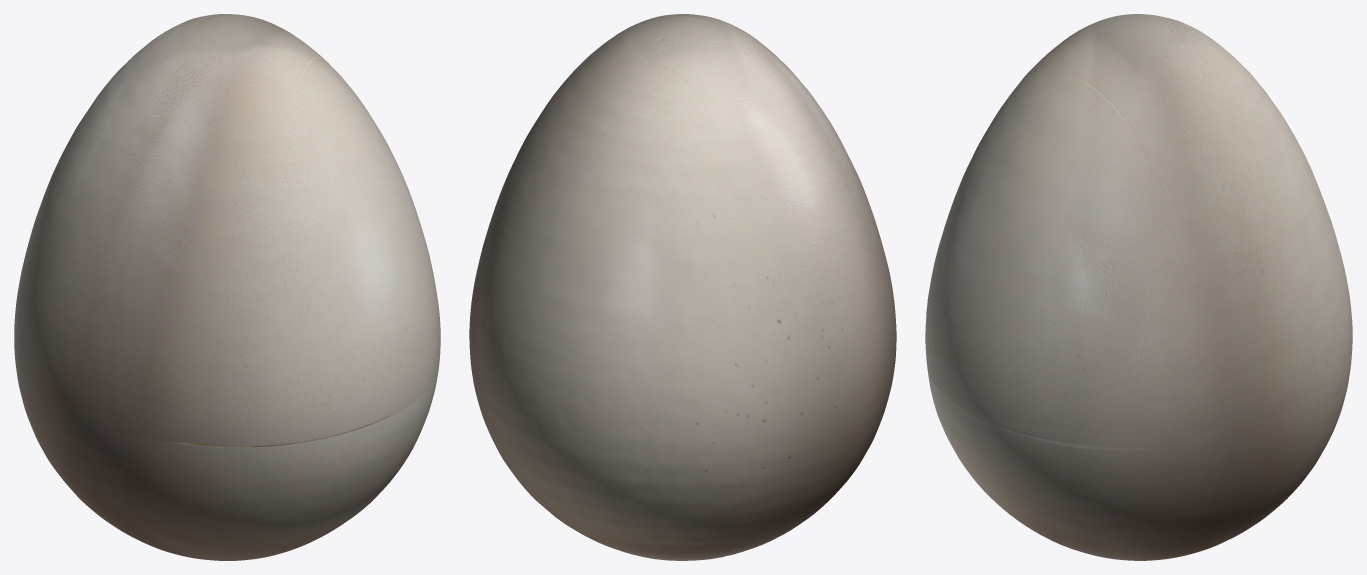
The model's file is cake1.fbx.
3 views of the same model, side by side, from view 1: azimuth 30°, elevation 25°; view 2: azimuth 150°, elevation 25°; view 3: azimuth 270°, elevation 25° (orthographic).
Visible parts, largest first — view 1: Mesh_0; view 2: Mesh_0; view 3: Mesh_0.
Part boxes in pixels (x1=…): Mesh_0: x1=14, y1=14, x2=440, y2=560; Mesh_0: x1=469, y1=14, x2=896, y2=560; Mesh_0: x1=925, y1=14, x2=1352, y2=560.
Bounding box in the file's own units: 149 × 199 × 149.
Materials: 1 (1 with a texture image).
